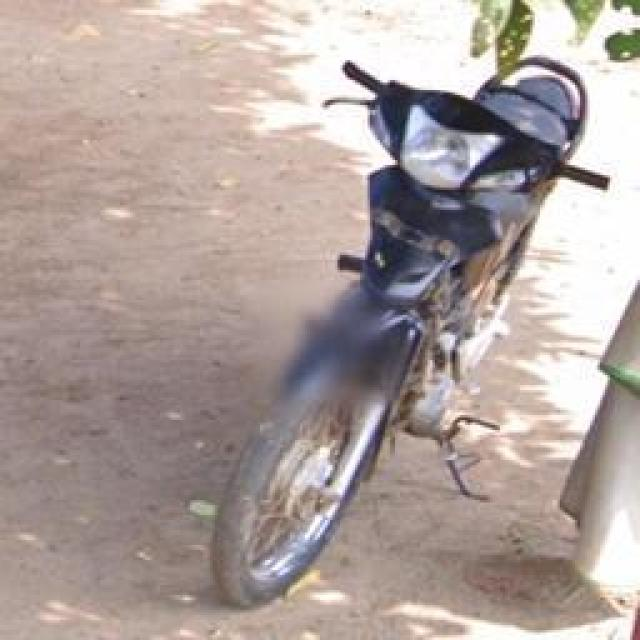Motor: (208, 52, 608, 608)
